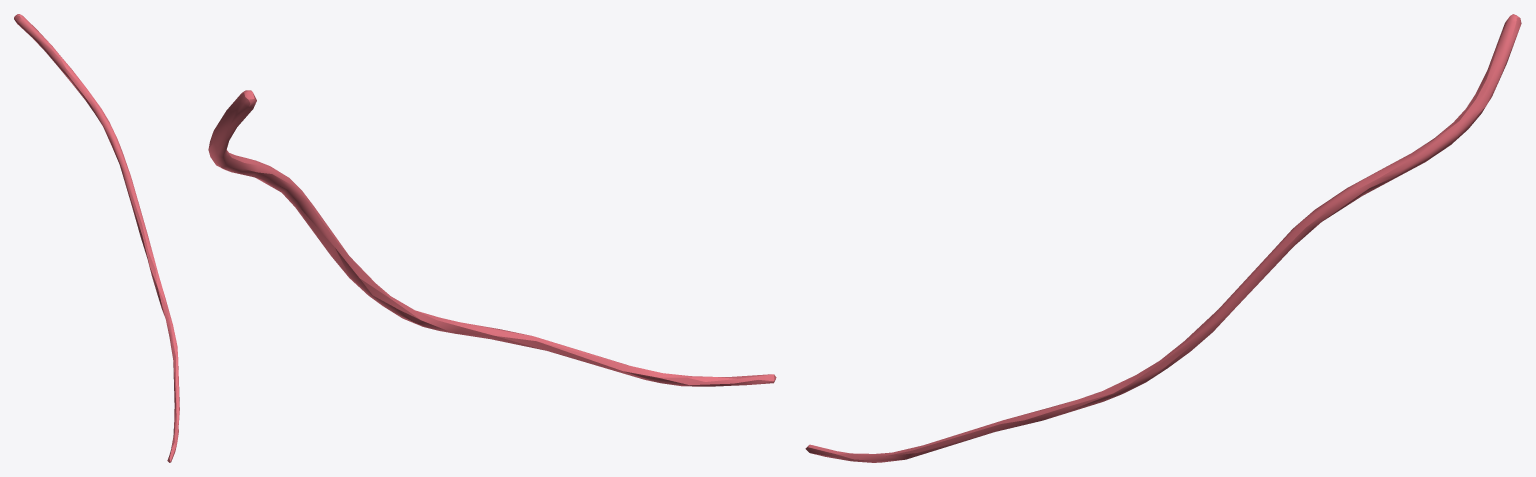
The model's file is fma14747_fj3517.glb.
The picture shows the model from 3 angles, left to right: view 1: azimuth 30°, elevation 25°; view 2: azimuth 150°, elevation 25°; view 3: azimuth 270°, elevation 25°; orthographic projection. The views are drawn at different scales.
Visible parts, largest first — view 1: FMA14747_FJ3517; view 2: FMA14747_FJ3517; view 3: FMA14747_FJ3517.
Boxes of the visible parts, x1,y1,x2,y2 form: FMA14747_FJ3517: (14,14,179,462); FMA14747_FJ3517: (208,90,776,386); FMA14747_FJ3517: (805,14,1521,462).
Bounding box in the file's own units: 0.023 × 0.0622 × 0.0835.
